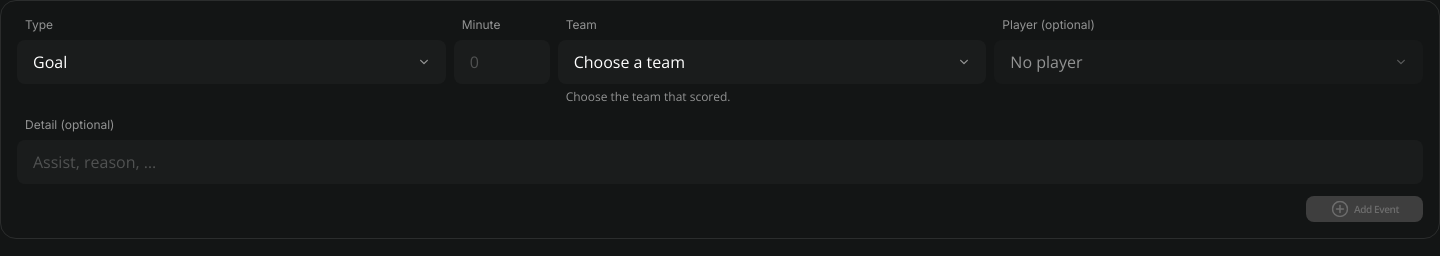
Test case: MatchEventFormComponent › requires the team for a goal
The width and height of the screenshot is (1440, 256).
Type "10" into the field with id "event-minute" at (502, 62), box [470,40,534,84]
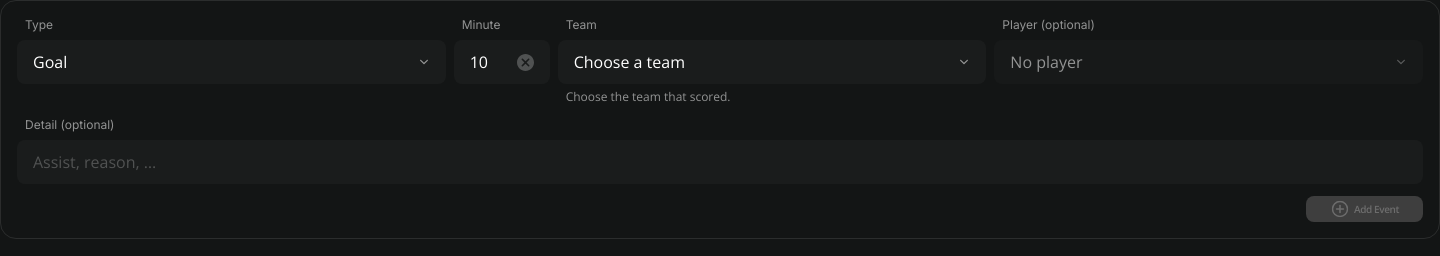
Expected: the text with id "event-team-hint" reads "Choose the team that scored.", [566,88,731,105]
Expected: the submit button is disabled, [1306,196,1423,222]
Select "Fan City" in the dropdown labelled "Team" at (772, 62), box [558,40,986,84]
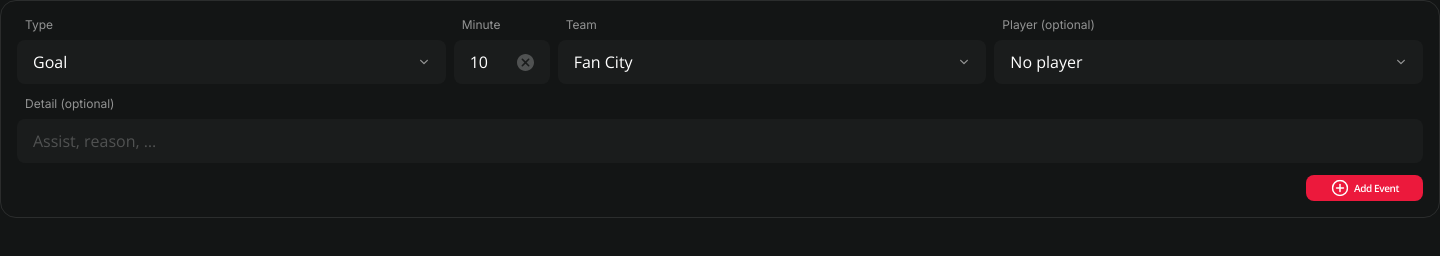
Result: the text with id "event-team-hint" is gone
Result: the submit button is enabled at [1306,175,1423,201]
